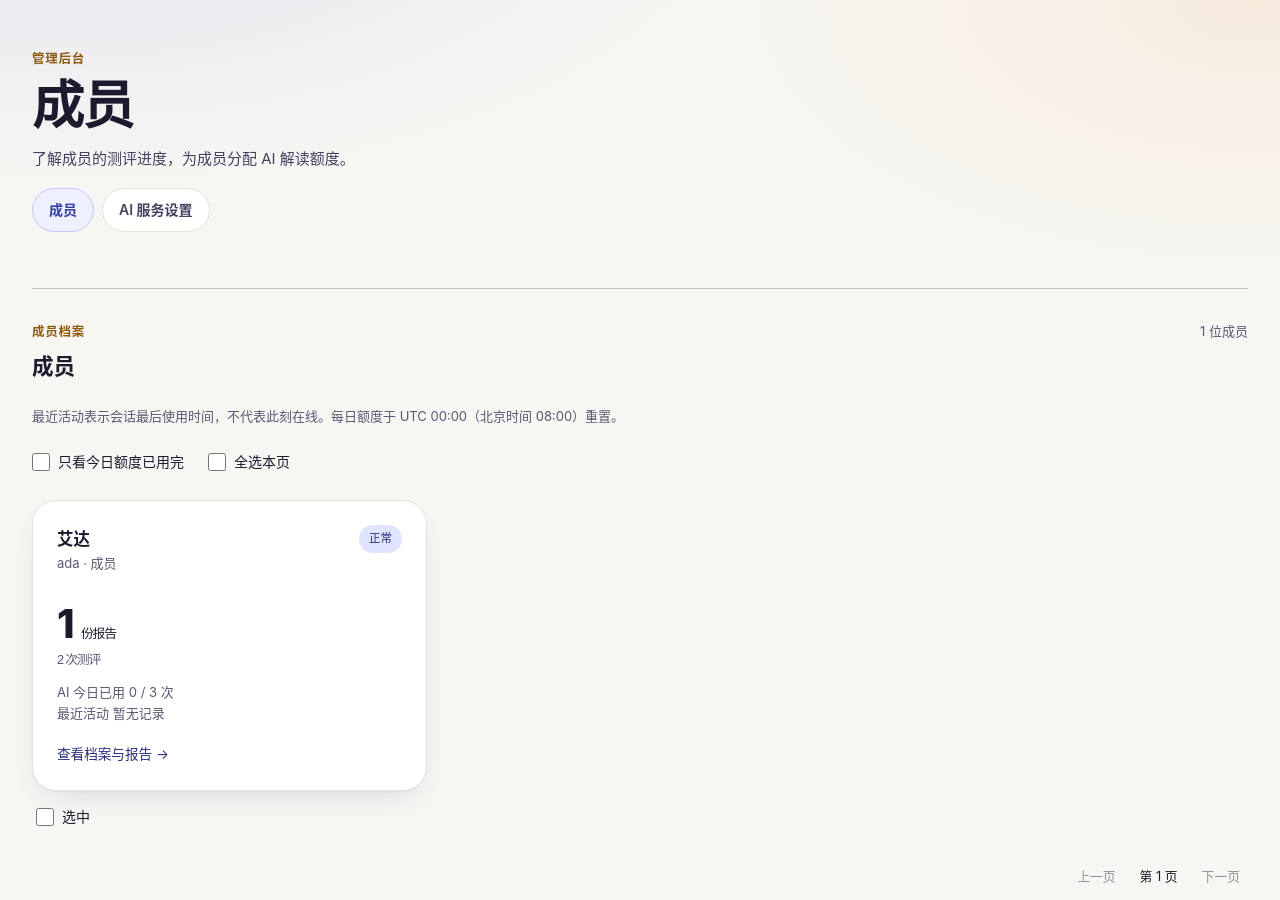
Test: 只看今日额度已用完 › 没有人用完时显示专门的空态，而不是“暂无成员”
Click the checkbox labelled "只看今日额度已用完" at (41, 462), box [32,452,50,470]
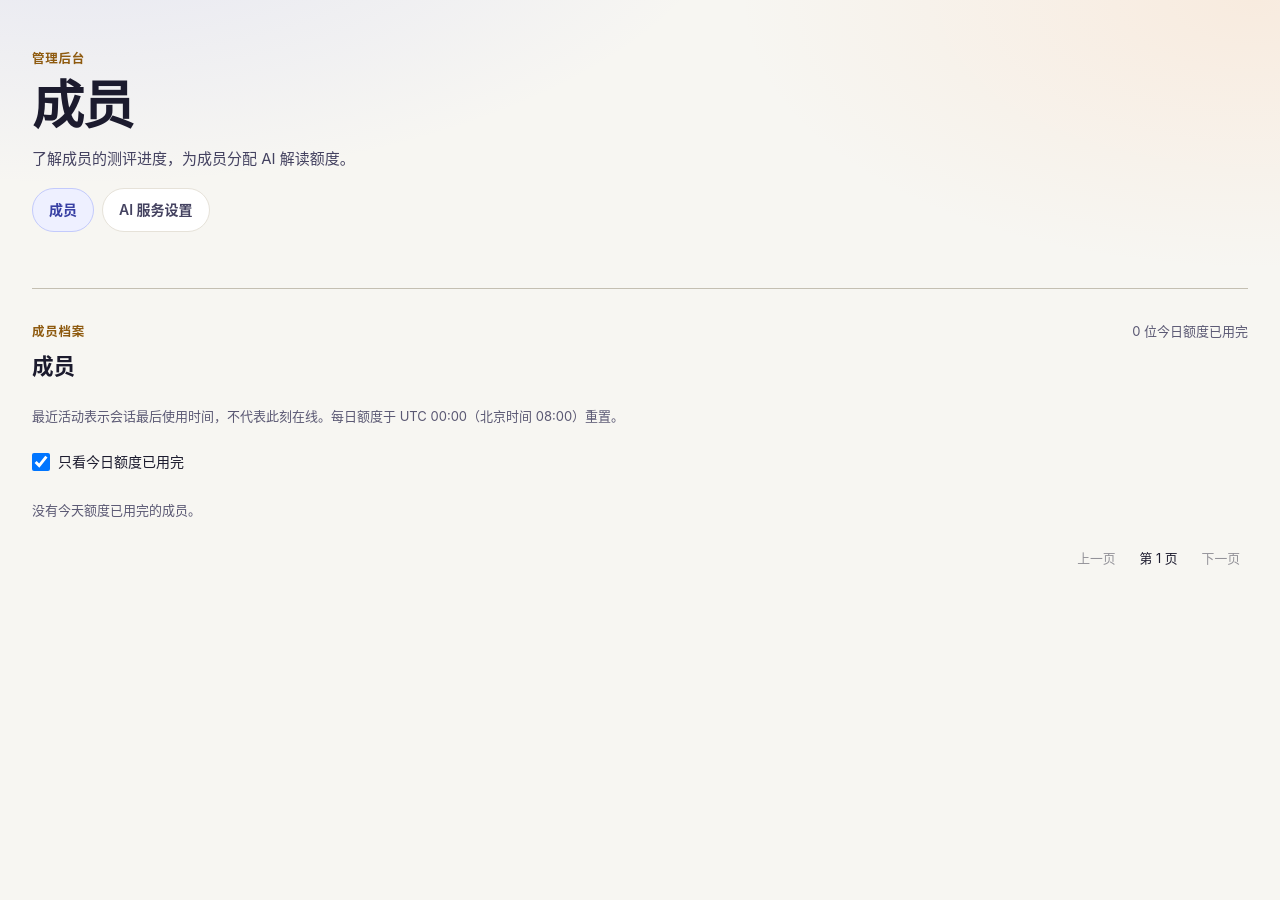
Result: the text "没有今天额度已用完的成员。" is shown at [32,502,201,518]
